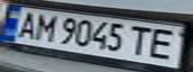0: (72, 18, 93, 48)
4: (90, 19, 112, 52)
5: (106, 20, 130, 54)
9: (54, 15, 78, 46)
A: (12, 9, 42, 39)
E: (142, 26, 190, 61)
M: (30, 11, 60, 43)
T: (124, 24, 160, 56)
